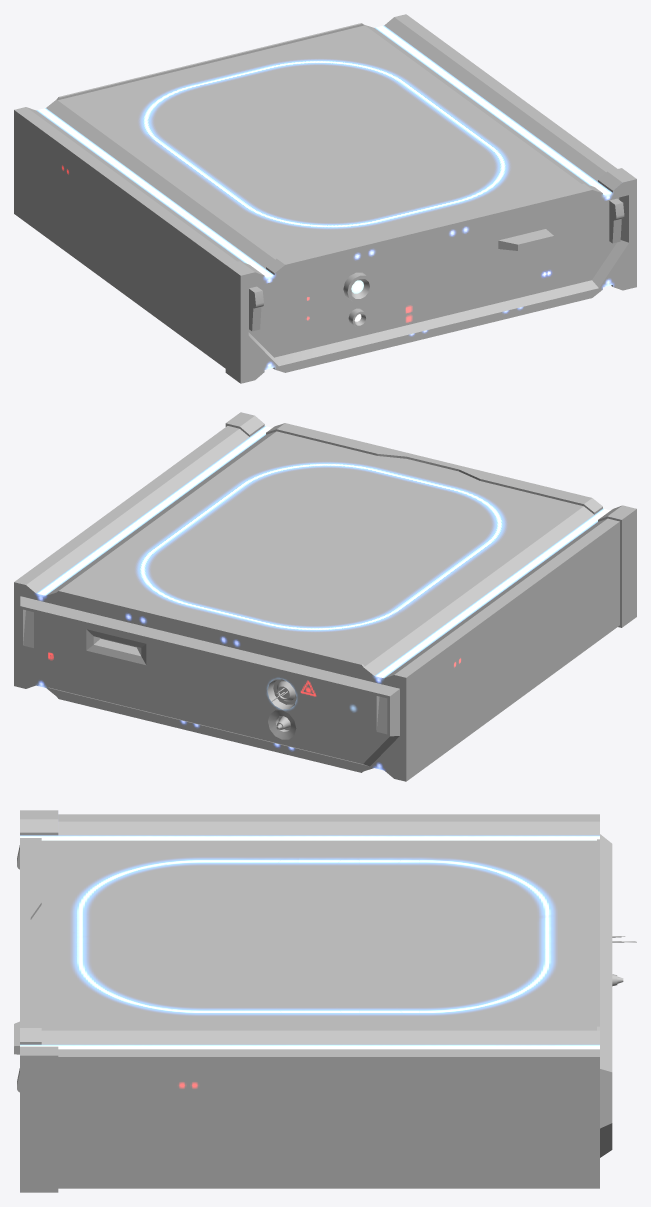
Rendered from Straight-2S_Caps.fbx.
The picture shows the model from 3 angles, top to bottom: view 1: azimuth 30°, elevation 25°; view 2: azimuth 150°, elevation 25°; view 3: azimuth 270°, elevation 25°; orthographic projection. The views are drawn at different scales.
Visible parts, largest first — view 1: Straight-2S_Caps; view 2: Straight-2S_Caps; view 3: Straight-2S_Caps.
Boxes of the visible parts, box(x1,y1,x2,y2) form: Straight-2S_Caps: box(14, 14, 636, 383); Straight-2S_Caps: box(14, 412, 636, 781); Straight-2S_Caps: box(14, 810, 636, 1192).
Bounding box in the file's own units: 2.5 × 0.6517 × 2.69.
